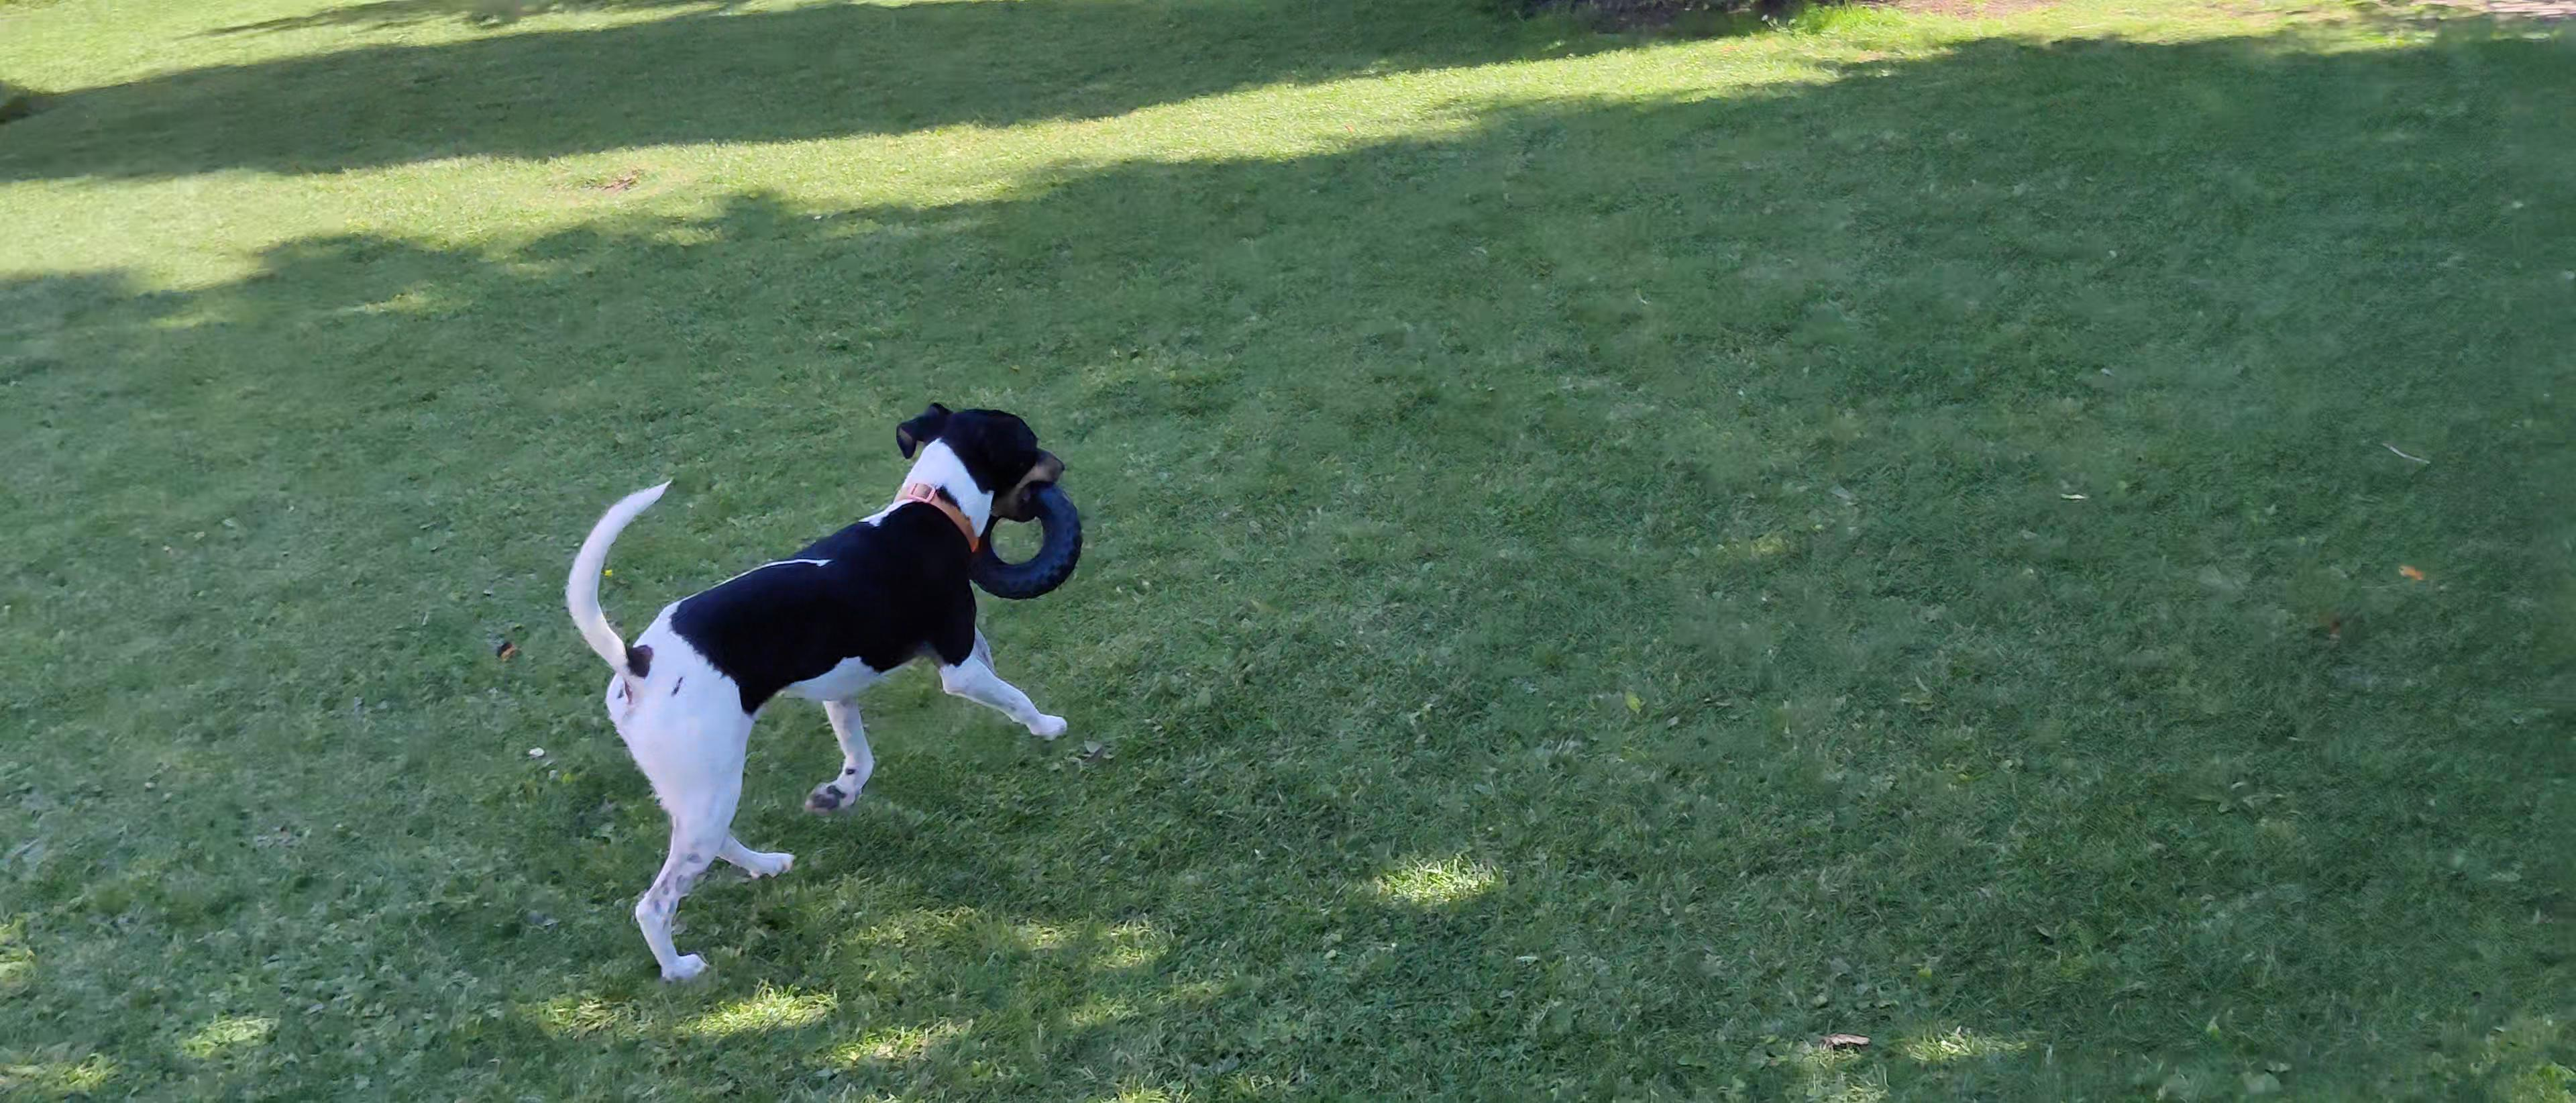Dog: (557, 396, 1069, 983)
